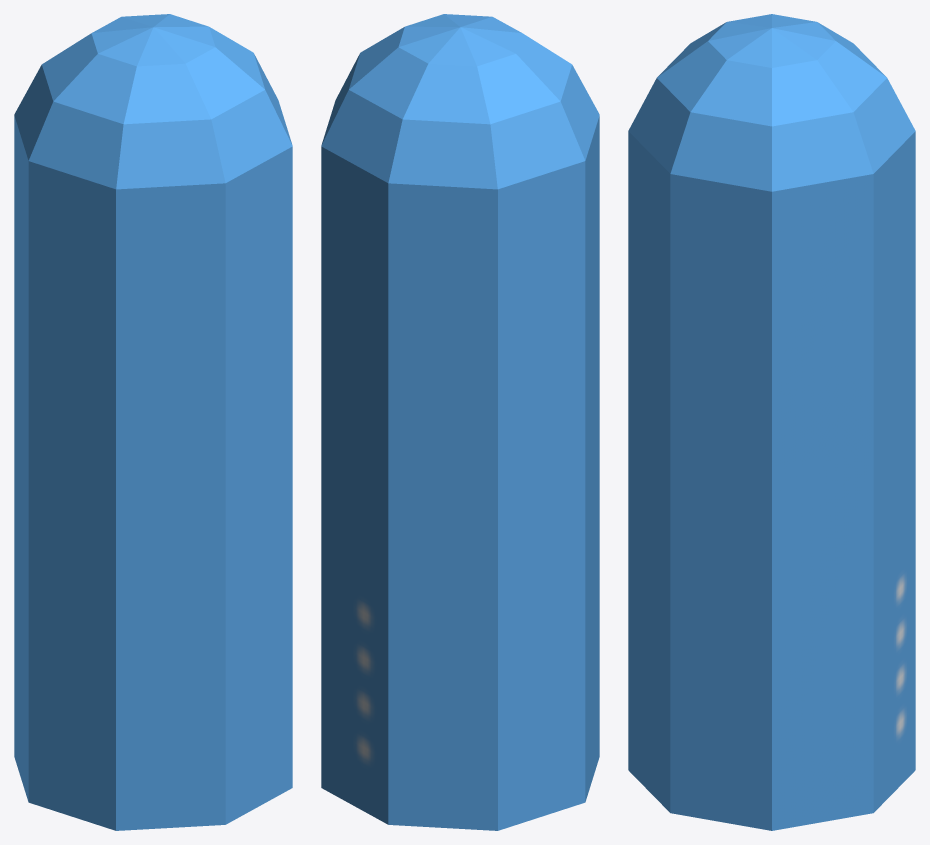
The model's file is wala_building03.fbx.
3 renders of one model, left to right at view 1: azimuth 30°, elevation 25°; view 2: azimuth 150°, elevation 25°; view 3: azimuth 270°, elevation 25°, orthographic.
Visible parts, largest first — view 1: wala_building03; view 2: wala_building03; view 3: wala_building03.
Boxes of the visible parts, x1,y1,x2,y2 form: wala_building03: [14, 14, 292, 830]; wala_building03: [321, 14, 599, 830]; wala_building03: [628, 14, 915, 830].
Bounding box in the file's own units: 2.12 × 6.03 × 2.12.
